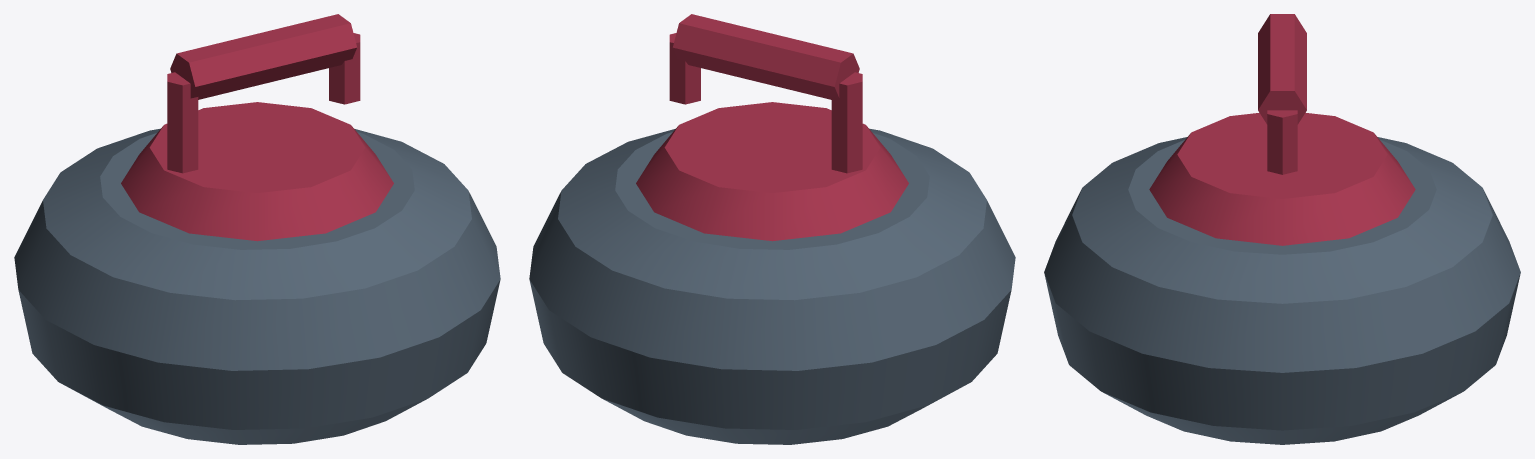
The model's file is alpine-snow-village-granite-curling-stone-f428fd9e__19824.glb.
3 renders of one model, left to right at view 1: azimuth 30°, elevation 25°; view 2: azimuth 150°, elevation 25°; view 3: azimuth 270°, elevation 25°, orthographic. The views are drawn at different scales.
Parts seen in each view (by area): view 1: granite-curling-stone-iron, granite-curling-stone-berry; view 2: granite-curling-stone-iron, granite-curling-stone-berry; view 3: granite-curling-stone-iron, granite-curling-stone-berry.
Part boxes in pixels (left/top/right/bottom): granite-curling-stone-iron: left=14, top=128, right=500, bottom=444; granite-curling-stone-berry: left=121, top=14, right=393, bottom=241; granite-curling-stone-iron: left=529, top=128, right=1015, bottom=444; granite-curling-stone-berry: left=636, top=14, right=908, bottom=241; granite-curling-stone-iron: left=1044, top=137, right=1520, bottom=444; granite-curling-stone-berry: left=1149, top=14, right=1415, bottom=245.
Size of the model in its own units: 0.68 by 0.5103 by 0.68.
